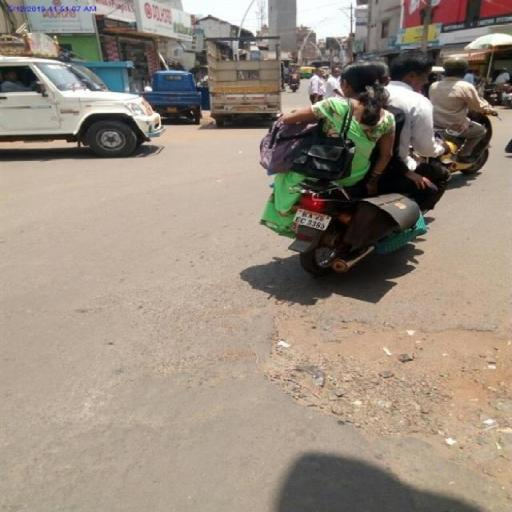tripple riding: (258, 48, 464, 187)
